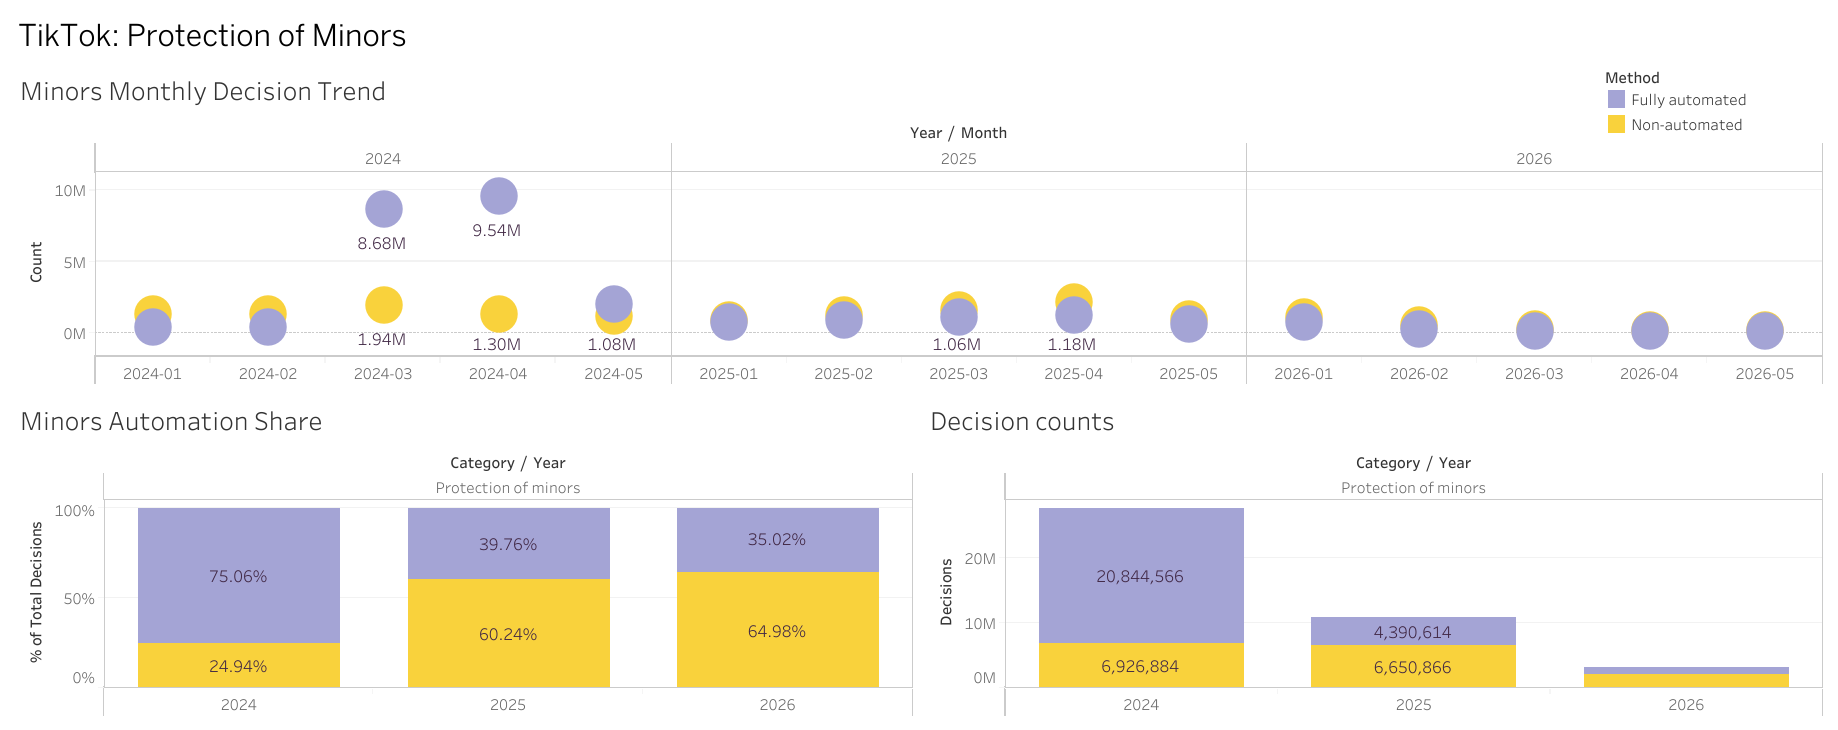

The page's visual inventory and layout, read from the dashboard file:
{"tool":"tableau","page":{"name":"TikTok: Protection of Minors","canvas":[1000,1000],"units":"permille","ordinal":0},"visuals":[{"type":"title","box":[4.9,9.4,990.2,54.1]},{"type":"worksheet","title":"Minors Monthly Decision Trend","mark":"Circle","rows":["Count"],"cols":["Year","Month"],"box":[4.9,63.5,990.2,463.5]},{"type":"legend","title":"Minors Monthly Decision Trend","param":"[federated.1t47s590ncmh3019f34fp148cbep].[none:Method:nk]","box":[872,85.8,103,99.9]},{"type":"worksheet","title":"Minors Automation Share","mark":"Bar","cols":["Category","Year"],"box":[4.9,527,495.1,463.6]},{"type":"worksheet","title":"Decision counts","mark":"Bar","rows":["decisions"],"cols":["Category","Year"],"box":[500,527,495.1,463.6]}]}

Visuals, with their boxes on the dashboard's canvas, which has no fixed pixel size, in thousandths of its width and height (x1, y1, x2, y2). These are canvas units, not pixel positions in the 1838x730 screenshot, which may show the page scaled, cropped or inside an application window:
title: 5/9/995/64
"Minors Monthly Decision Trend" worksheet (Circle marks): 5/64/995/527
"Minors Monthly Decision Trend" legend: 872/86/975/186
"Minors Automation Share" worksheet (Bar marks): 5/527/500/991
"Decision counts" worksheet (Bar marks): 500/527/995/991
